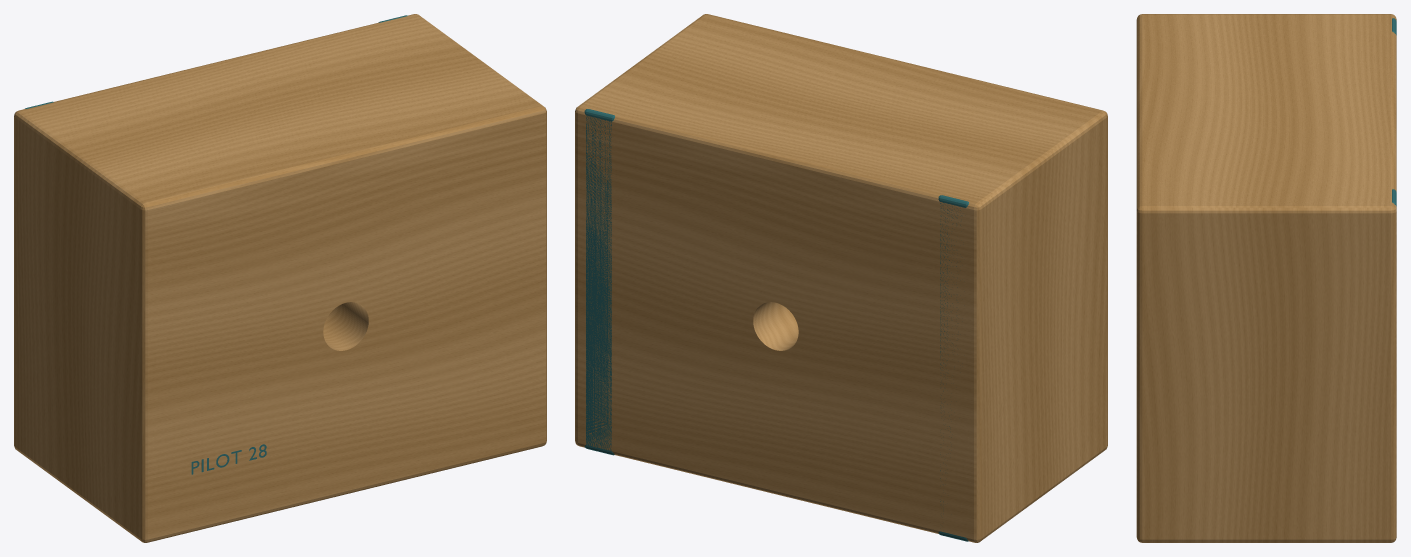
File: assembly.glb
The picture shows the model from 3 angles, left to right: view 1: azimuth 30°, elevation 25°; view 2: azimuth 150°, elevation 25°; view 3: azimuth 270°, elevation 25°; orthographic projection.
Visible parts, largest first — view 1: Pilot-hole timber block; view 2: Pilot-hole timber block, Block clamping strip, Block clamping strip.001; view 3: Pilot-hole timber block.
Part boxes in pixels (left/top/right/bottom): Pilot-hole timber block: left=14, top=14, right=546, bottom=542; Pilot-hole timber block: left=575, top=14, right=1107, bottom=542; Block clamping strip: left=584, top=109, right=614, bottom=455; Block clamping strip.001: left=938, top=195, right=968, bottom=541; Pilot-hole timber block: left=1136, top=14, right=1396, bottom=542.
Bounding box in the file's own units: 0.25 × 0.2 × 0.1402.
Materials: 3 (1 with a texture image).
